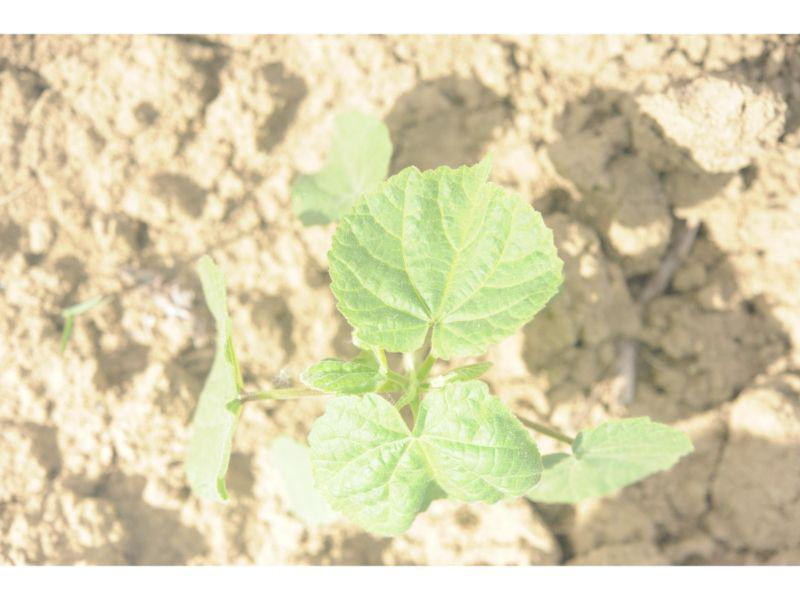velvet: (181, 108, 696, 529)
